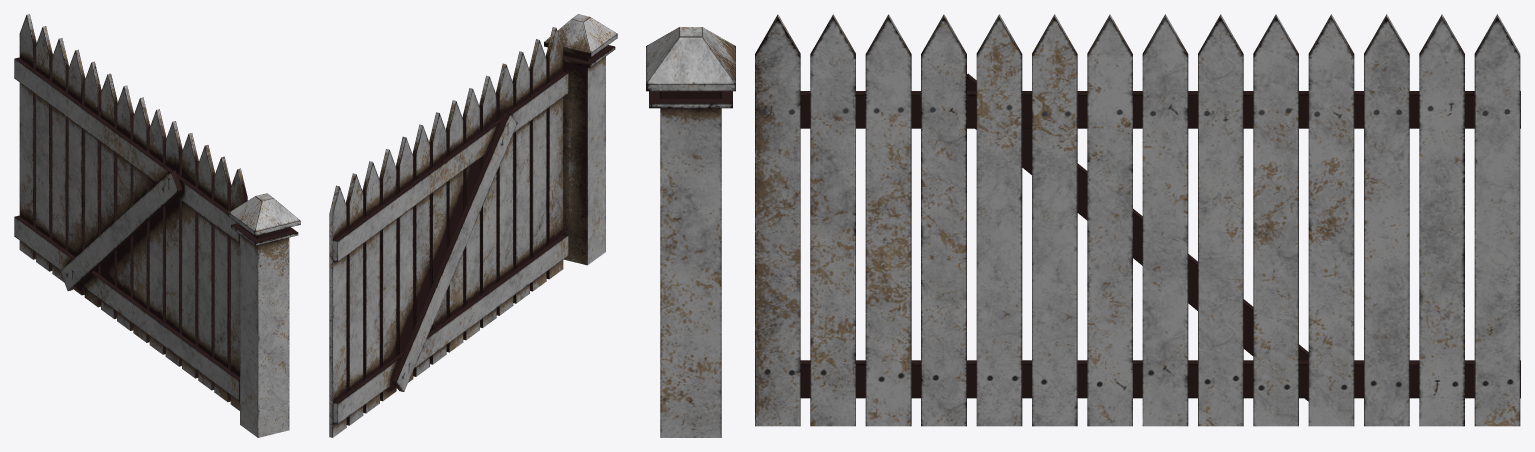
The model's file is wood_wooden_fence_protector_of_the_farm_low_poly.glb.
3 renders of one model, left to right at view 1: azimuth 30°, elevation 25°; view 2: azimuth 150°, elevation 25°; view 3: azimuth 270°, elevation 25°, orthographic. The views are drawn at different scales.
Parts seen in each view (by area): view 1: Object_2; view 2: Object_2; view 3: Object_2.
Part boxes in pixels (x1,y1,x2,y2): Object_2: [14, 14, 300, 437]; Object_2: [329, 14, 617, 437]; Object_2: [646, 14, 1520, 437].
Bounding box in the file's own units: 29.2 × 147 × 285.
Materials: 1 (1 with a texture image).
